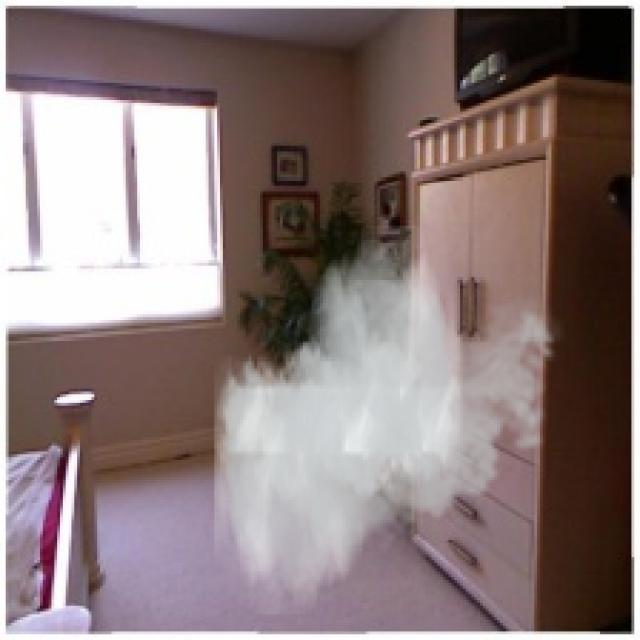Smoke: (214, 226, 566, 614)
